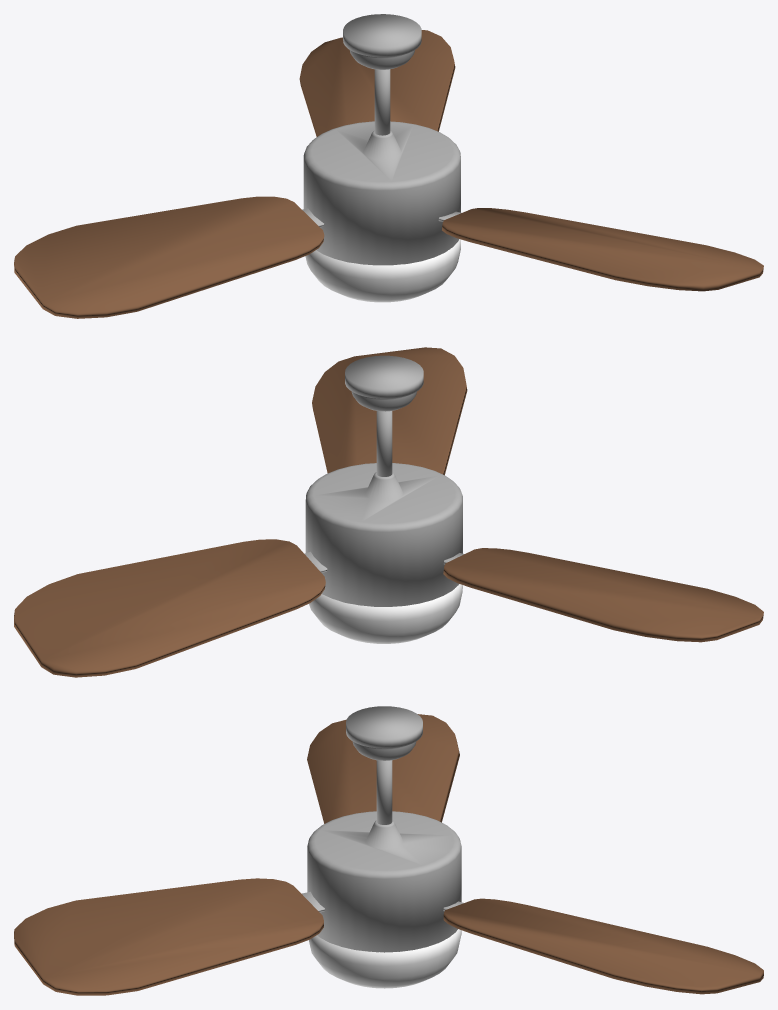
File: ceiling-fan.fbx
The picture shows the model from 3 angles, top to bottom: view 1: azimuth 30°, elevation 25°; view 2: azimuth 150°, elevation 25°; view 3: azimuth 270°, elevation 25°; orthographic projection. The views are drawn at different scales.
Parts seen in each view (by area): view 1: blades, Cylinder.001, lampshade, Cylinder.003, Cylinder.002; view 2: blades, Cylinder.001, lampshade, Cylinder.003, Cylinder.002; view 3: blades, Cylinder.001, lampshade, Cylinder.003, Cylinder.002.
Boxes of the visible parts, bbox=[...] form: blades: bbox=[14, 30, 763, 318]; Cylinder.001: bbox=[303, 121, 460, 265]; lampshade: bbox=[305, 239, 460, 302]; Cylinder.003: bbox=[343, 14, 421, 69]; Cylinder.002: bbox=[374, 69, 390, 135]; blades: bbox=[14, 347, 763, 677]; Cylinder.001: bbox=[305, 463, 462, 606]; lampshade: bbox=[309, 584, 462, 643]; Cylinder.003: bbox=[345, 355, 423, 411]; Cylinder.002: bbox=[376, 411, 392, 476]; blades: bbox=[14, 714, 763, 995]; Cylinder.001: bbox=[307, 811, 461, 952]; lampshade: bbox=[309, 929, 461, 988]; Cylinder.003: bbox=[346, 706, 422, 760]; Cylinder.002: bbox=[376, 760, 392, 824].
Bounding box in the file's own units: 239 × 100 × 276.
